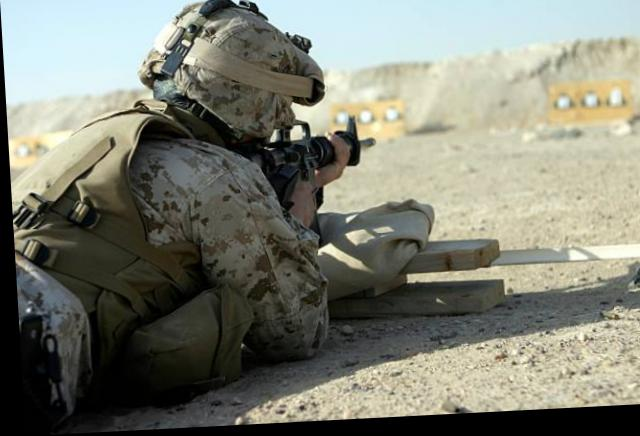other: (4, 0, 472, 433)
